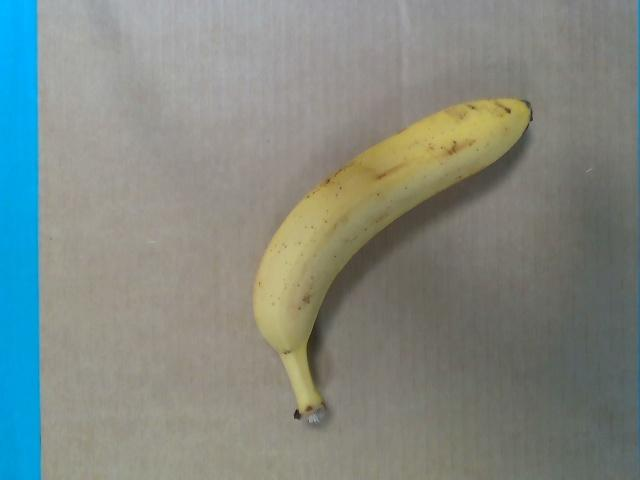banana: (253, 98, 533, 424)
